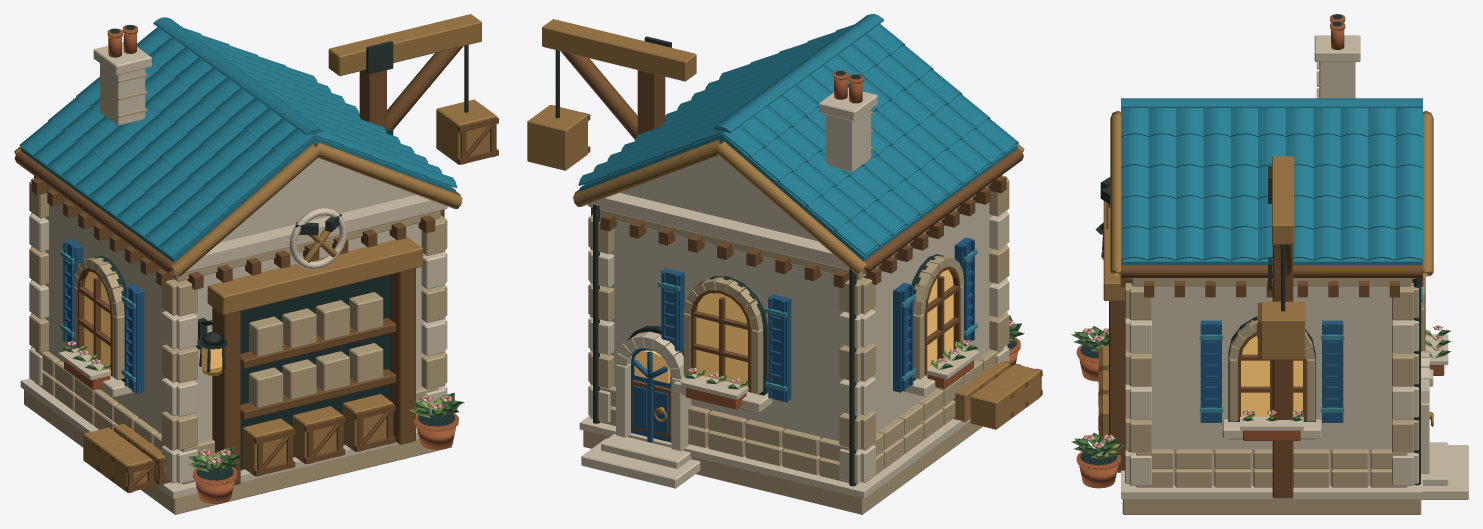
3 renders of one model, left to right at view 1: azimuth 30°, elevation 25°; view 2: azimuth 150°, elevation 25°; view 3: azimuth 270°, elevation 25°, orthographic.
Parts seen in each view (by area): view 1: harbor_builders_guild_geometry, harbor_builders_guild_geometry ceramic, harbor_crane_load_geometry; view 2: harbor_builders_guild_geometry, harbor_builders_guild_geometry ceramic, harbor_crane_load_geometry; view 3: harbor_builders_guild_geometry, harbor_builders_guild_geometry ceramic, harbor_crane_load_geometry.
Boxes of the visible parts, <box> form: harbor_builders_guild_geometry: <box>14,14,481,514</box>; harbor_builders_guild_geometry ceramic: <box>19,17,456,382</box>; harbor_crane_load_geometry: <box>436,45,498,164</box>; harbor_builders_guild_geometry: <box>542,19,1042,514</box>; harbor_builders_guild_geometry ceramic: <box>578,14,1018,391</box>; harbor_crane_load_geometry: <box>527,50,590,170</box>; harbor_builders_guild_geometry: <box>1071,14,1468,514</box>; harbor_builders_guild_geometry ceramic: <box>1121,98,1422,412</box>; harbor_crane_load_geometry: <box>1257,244,1305,359</box>.
Size of the model in its own units: 1.04 by 0.9099 by 0.8444.
